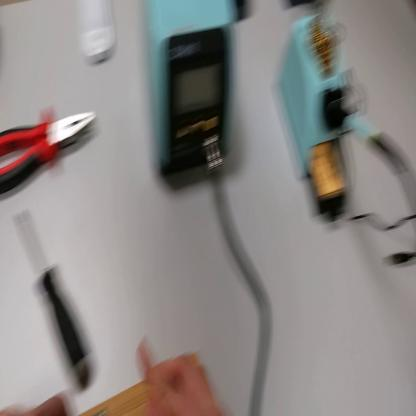hand: (138, 346, 221, 412), (4, 389, 72, 415)
pliers: (2, 100, 103, 197)
screwdriver-: (11, 204, 94, 391)
welder base: (280, 21, 371, 233)
welder probe tip: (333, 99, 403, 182)
welder station: (139, 1, 237, 196)
working area: (88, 347, 222, 416)
